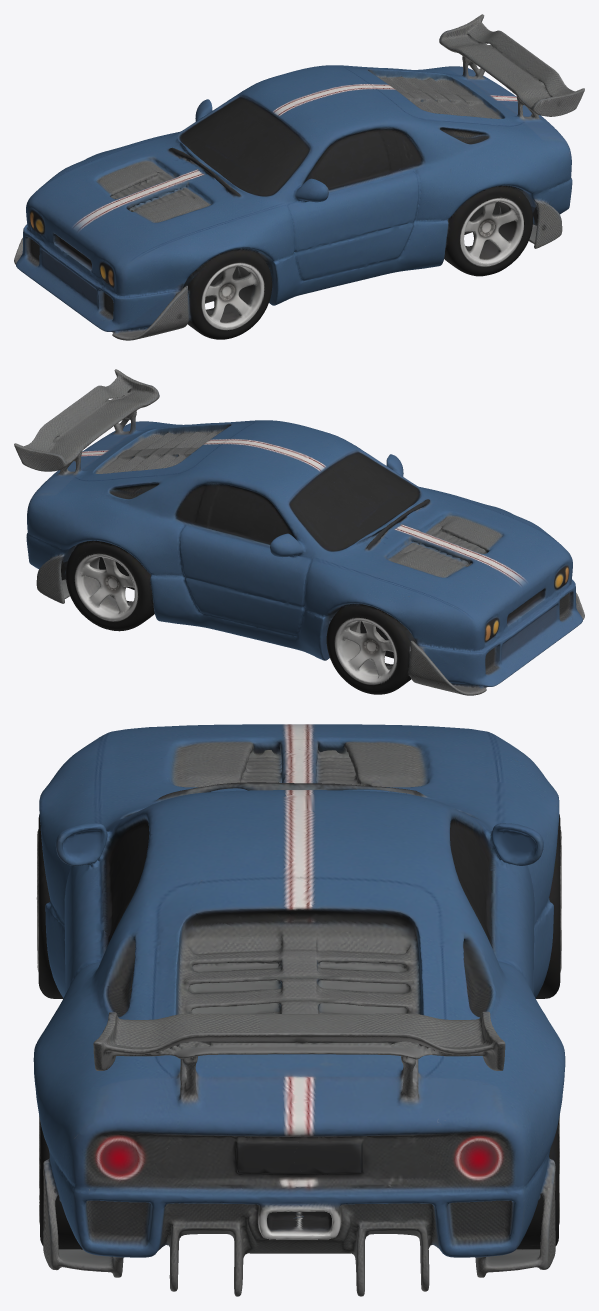
File: cars_monster_mature.glb
3 views of the same model, one above another, from view 1: azimuth 30°, elevation 25°; view 2: azimuth 150°, elevation 25°; view 3: azimuth 270°, elevation 25° (orthographic). The views are drawn at different scales.
Visible parts, largest first — view 1: Mesh_0; view 2: Mesh_0; view 3: Mesh_0.
Part boxes in pixels (x1,y1,x2,y2): Mesh_0: [14, 14, 584, 340]; Mesh_0: [14, 369, 584, 695]; Mesh_0: [33, 724, 565, 1296].
Bounding box in the file's own units: 1.9 × 0.6175 × 0.9196.
Materials: 1 (1 with a texture image).
